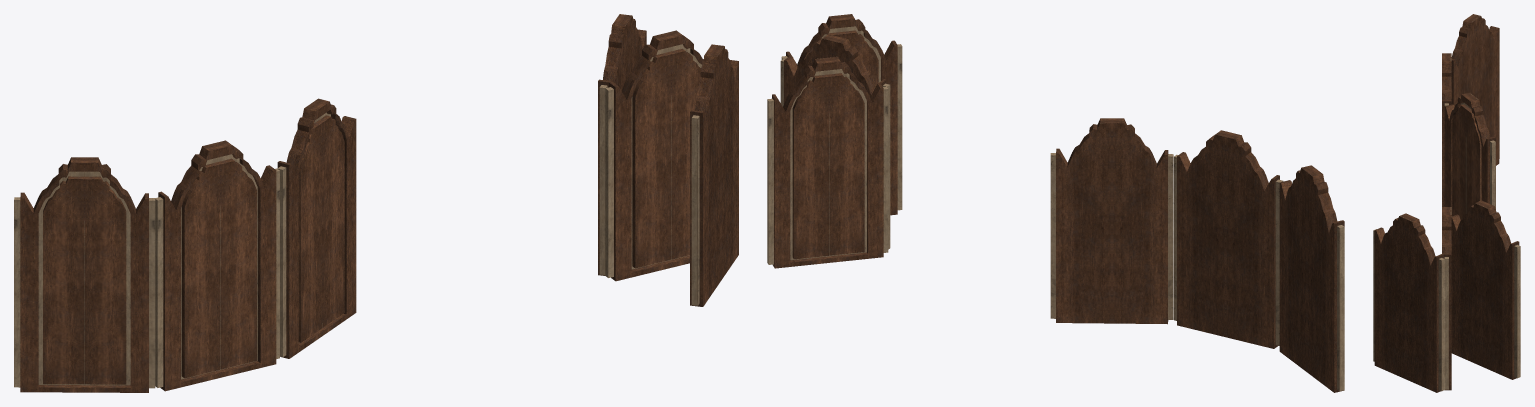
Rendered from zanaveska.fbx.
3 views of the same model, side by side, from view 1: azimuth 30°, elevation 25°; view 2: azimuth 150°, elevation 25°; view 3: azimuth 270°, elevation 25° (orthographic). The views are drawn at different scales.
Visible parts, largest first — view 1: zanaveska, zanaveska2; view 2: zanaveska, zanaveska2; view 3: zanaveska2, zanaveska.
Part boxes in pixels (x1,y1,x2,y2): zanaveska: [14, 98, 356, 392]; zanaveska2: [598, 14, 738, 306]; zanaveska: [1050, 118, 1344, 392]; zanaveska2: [767, 14, 902, 268]; zanaveska2: [1373, 200, 1520, 392]; zanaveska: [1442, 14, 1499, 220].
Bounding box in the file's own units: 3312 × 1062 × 883.
